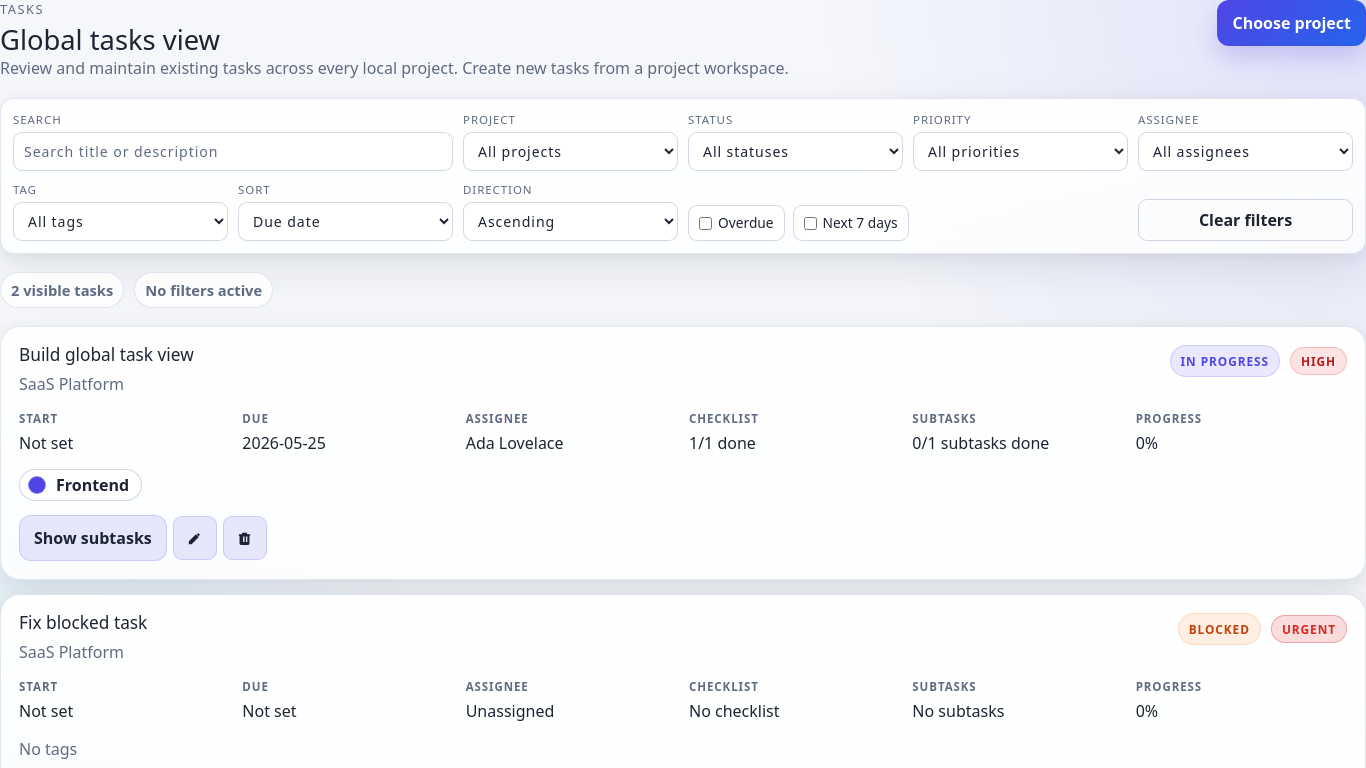
Scenario: TasksPage › warns before saving a task as done with pending subtasks
The image size is (1366, 768).
Click the button named "Edit" at coordinates (195, 538), box [173,516,217,560]
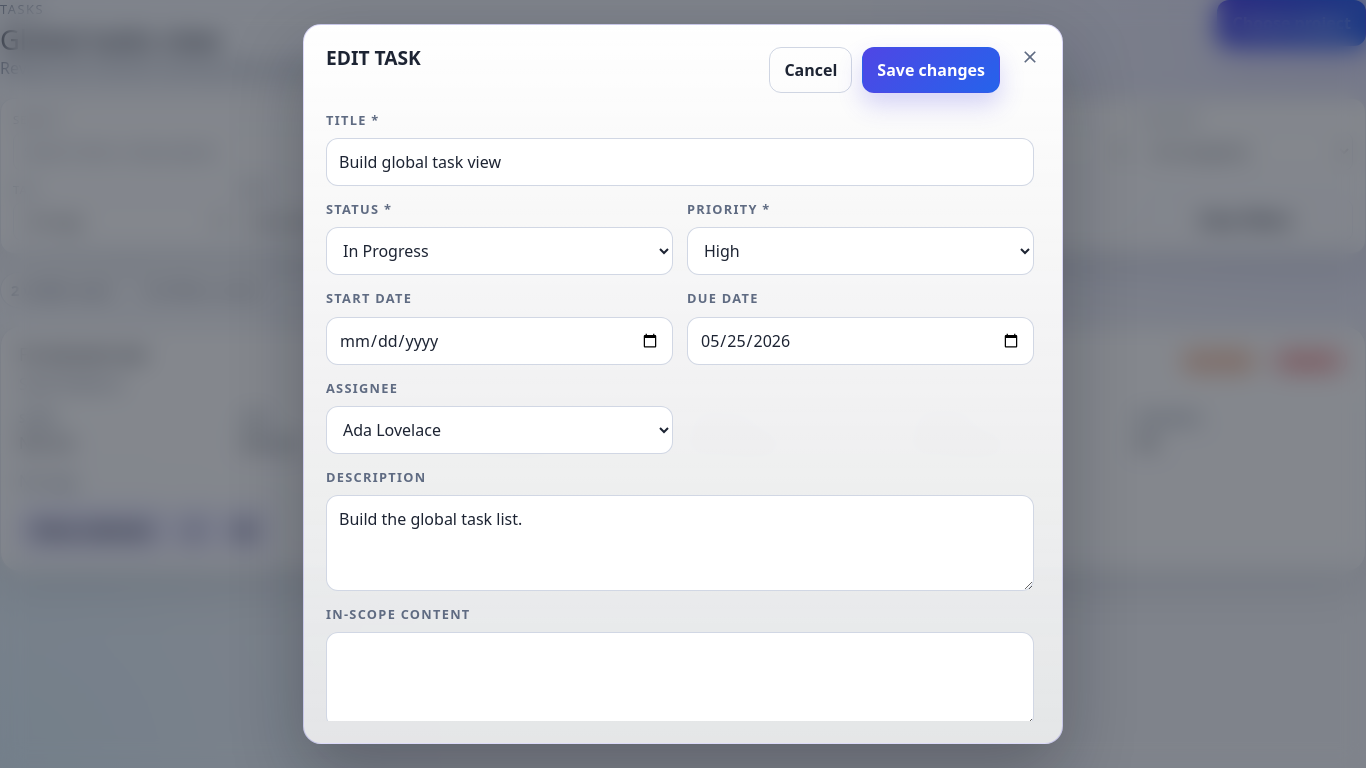
Select "Done" in the dropdown labelled "Status *" at coordinates (500, 251), box [326,227,673,275]
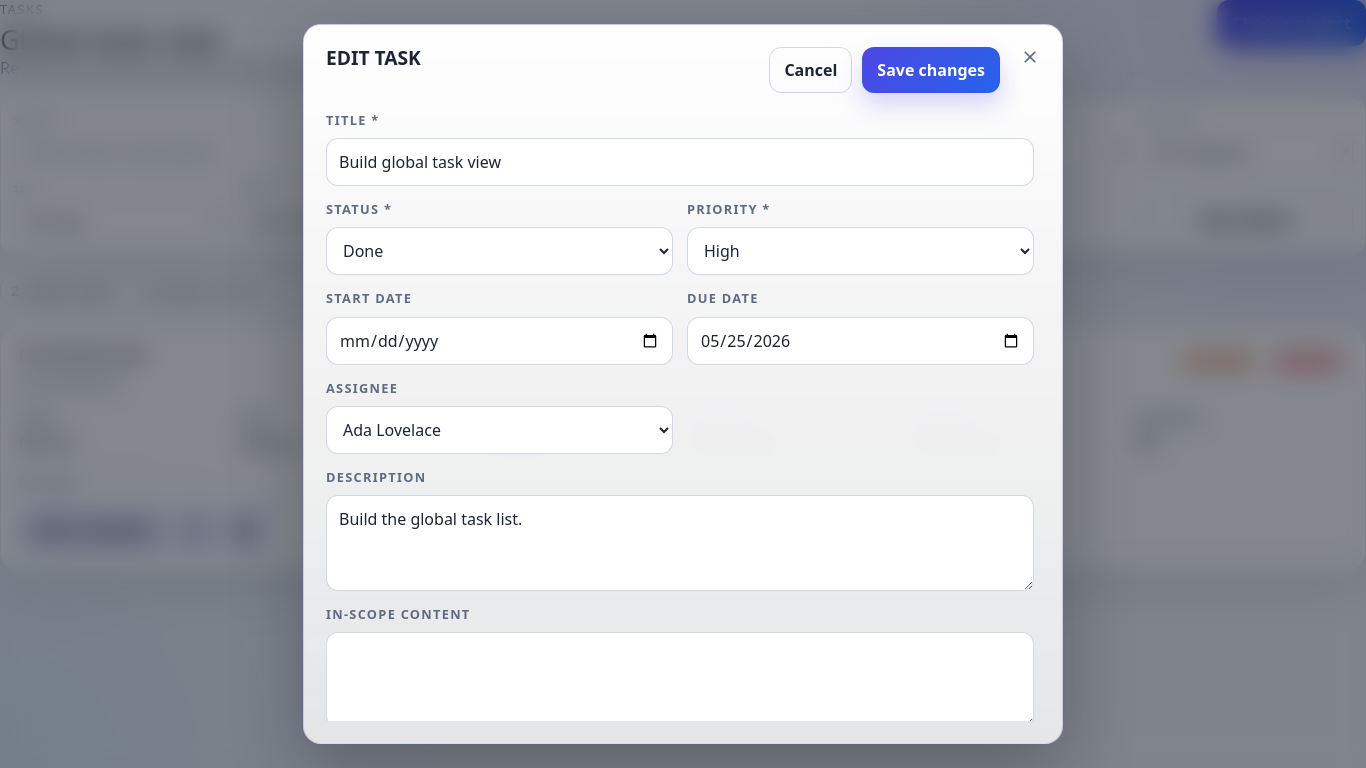
Click the button "Save changes" at coordinates (931, 70), box [862,47,1000,93]
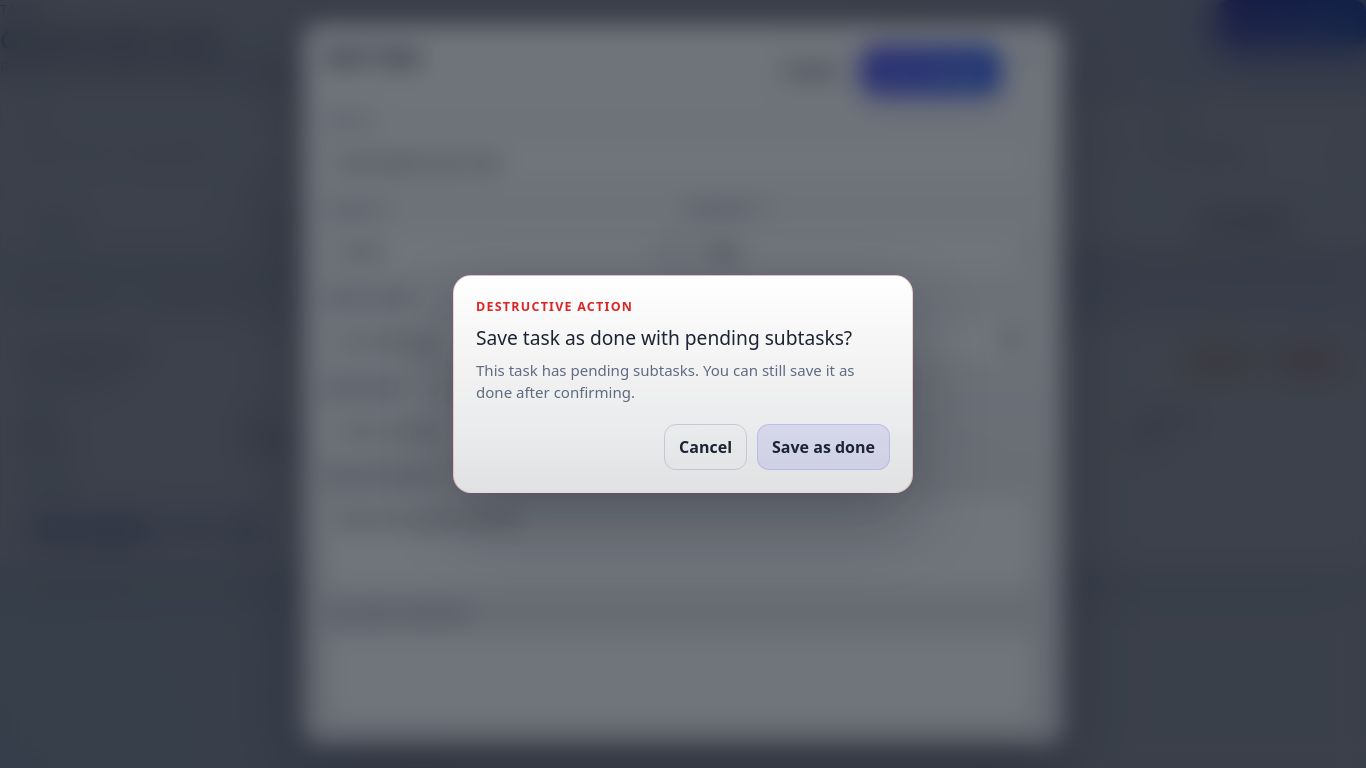
Check: the heading "Save task as done with pending subtasks?" is shown, box [476,327,890,349]
Click the button "Save as done" at coordinates (824, 447), box [757,424,890,470]
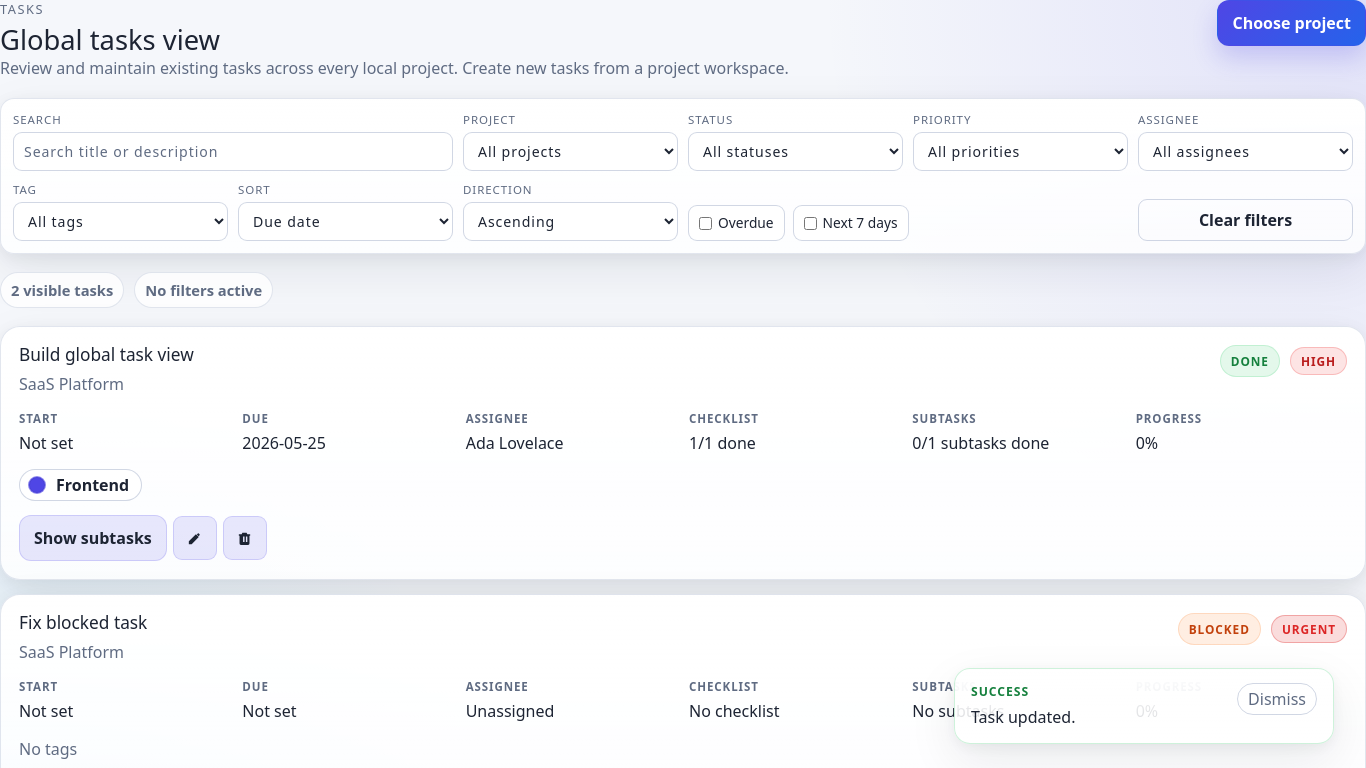
Check: the message shows "Task updated.", box [971,706,1075,728]
